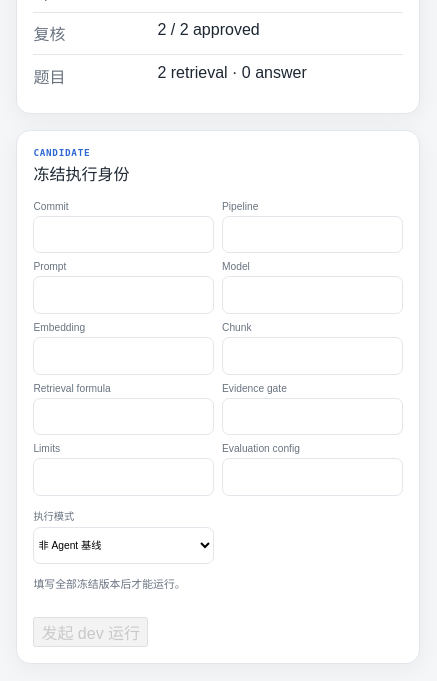
Test: EvaluationWorkbench › defaults agent candidates to the frozen runtime policy version
(page scrolled)
Step 1. Select "Agent 候选" in the dropdown labelled "执行模式" → (124, 546), box left=33, top=527, right=214, bottom=564
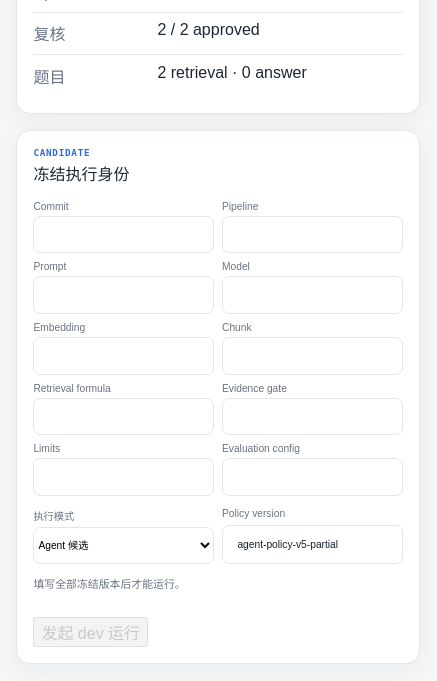
Expected: the field labelled "Policy version" holds "agent-policy-v5-partial", left=222, top=525, right=403, bottom=564
